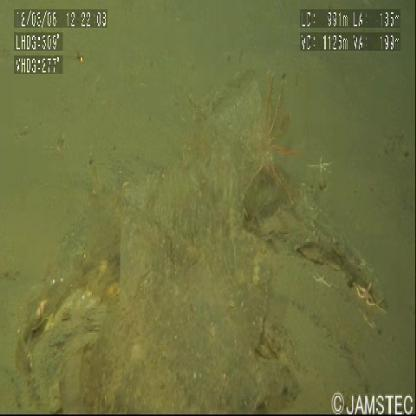Rác: (23, 67, 383, 408)
